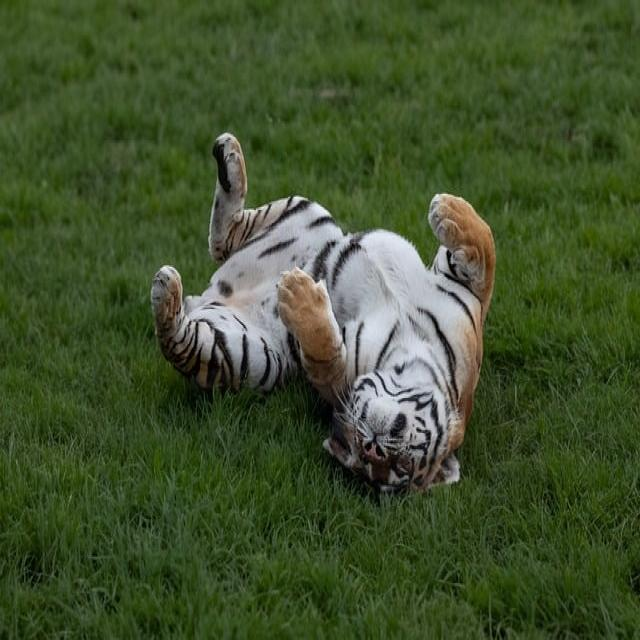Carnivorous: (154, 133, 497, 496)
